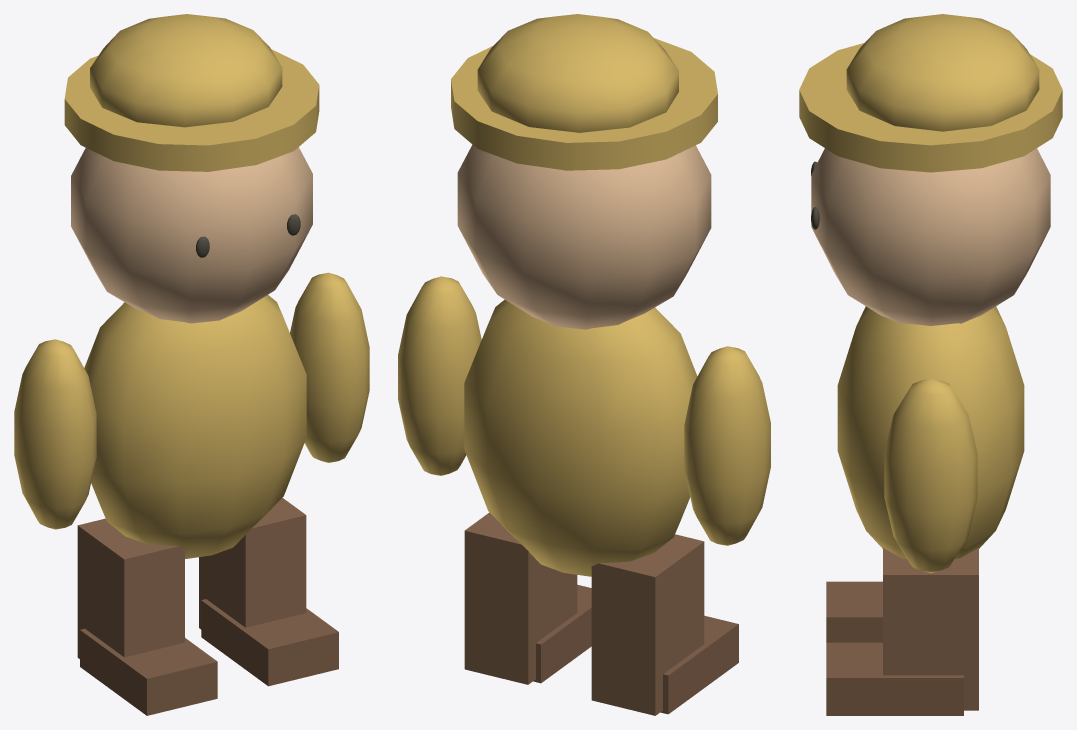
The model's file is resident_0.glb.
The picture shows the model from 3 angles, left to right: view 1: azimuth 30°, elevation 25°; view 2: azimuth 150°, elevation 25°; view 3: azimuth 270°, elevation 25°; orthographic projection. The views are drawn at different scales.
Parts seen in each view (by area): view 1: _MeshInstance3D_258, _MeshInstance3D_259, _MeshInstance3D_263, _MeshInstance3D_262, _MeshInstance3D_264, _MeshInstance3D_254, _MeshInstance3D_265, _MeshInstance3D_256, _MeshInstance3D_255, _MeshInstance3D_257; view 2: _MeshInstance3D_258, _MeshInstance3D_259, _MeshInstance3D_263, _MeshInstance3D_254, _MeshInstance3D_262, _MeshInstance3D_264, _MeshInstance3D_256, _MeshInstance3D_265, _MeshInstance3D_255, _MeshInstance3D_257; view 3: _MeshInstance3D_259, _MeshInstance3D_258, _MeshInstance3D_263, _MeshInstance3D_262, _MeshInstance3D_265, _MeshInstance3D_256, _MeshInstance3D_257, _MeshInstance3D_255.
Boxes of the visible parts, x1,y1,x2,y2 form: _MeshInstance3D_258: (84,295,306,558); _MeshInstance3D_259: (71,147,312,323); _MeshInstance3D_263: (90,14,282,127); _MeshInstance3D_262: (64,49,319,171); _MeshInstance3D_264: (14,339,96,529); _MeshInstance3D_254: (77,518,184,658); _MeshInstance3D_265: (290,272,369,462); _MeshInstance3D_256: (199,498,306,629); _MeshInstance3D_255: (80,628,217,715); _MeshInstance3D_257: (201,599,338,686); _MeshInstance3D_258: (464,299,697,576); _MeshInstance3D_259: (457,144,711,329); _MeshInstance3D_263: (477,14,678,132); _MeshInstance3D_254: (591,534,704,715); _MeshInstance3D_262: (451,38,717,170); _MeshInstance3D_264: (684,346,770,545); _MeshInstance3D_256: (464,512,577,684); _MeshInstance3D_265: (398,276,481,475); _MeshInstance3D_255: (660,615,738,714); _MeshInstance3D_257: (533,584,591,683); _MeshInstance3D_259: (811,148,1050,325); _MeshInstance3D_258: (837,306,1024,558); _MeshInstance3D_263: (846,14,1039,131); _MeshInstance3D_262: (799,42,1062,172); _MeshInstance3D_265: (884,378,977,573); _MeshInstance3D_256: (883,548,978,710); _MeshInstance3D_257: (826,642,963,715); _MeshInstance3D_255: (826,581,882,642).
Bounding box in the file's own units: 0.6765 × 1.18 × 0.44.
